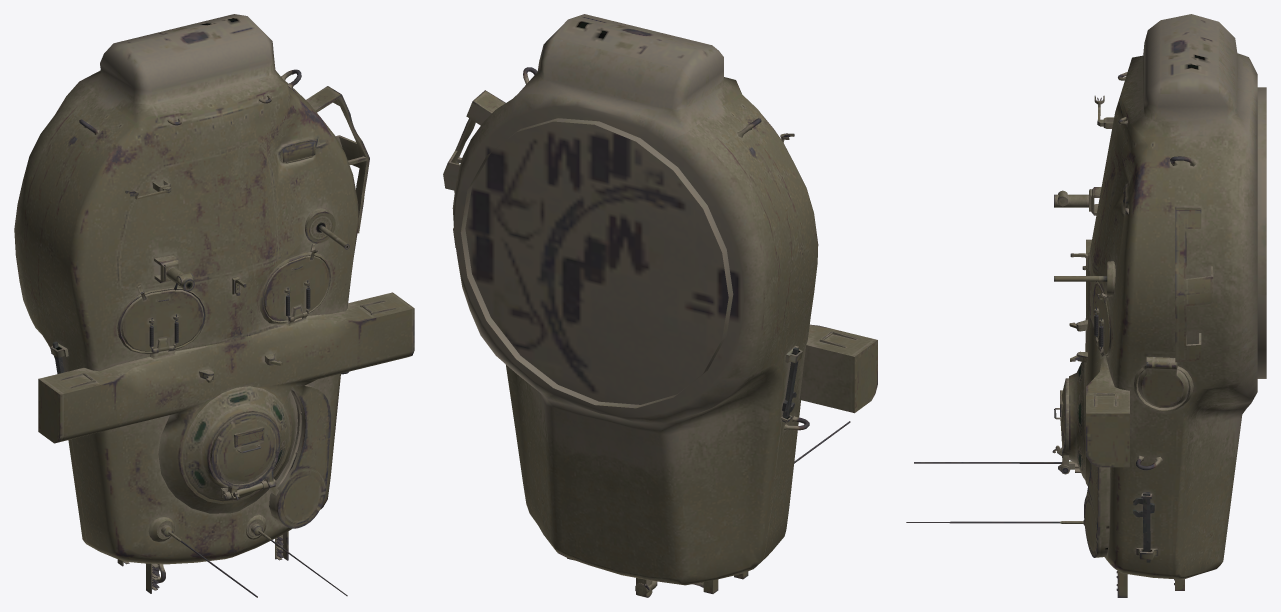
File: Turret_02.glb
3 views of the same model, side by side, from view 1: azimuth 30°, elevation 25°; view 2: azimuth 150°, elevation 25°; view 3: azimuth 270°, elevation 25° (orthographic). The views are drawn at different scales.
Visible parts, largest first — view 1: set_0_group_0; view 2: set_0_group_0; view 3: set_0_group_0.
Part boxes in pixels (x1,y1,x2,y2): set_0_group_0: [14, 14, 414, 597]; set_0_group_0: [443, 14, 877, 597]; set_0_group_0: [906, 14, 1266, 597].
Size of the model in its own units: 3.09 by 4.37 by 2.7.
Materials: 1 (1 with a texture image).
